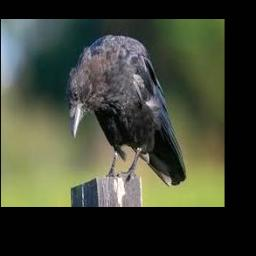Crow: (67, 34, 187, 187)
